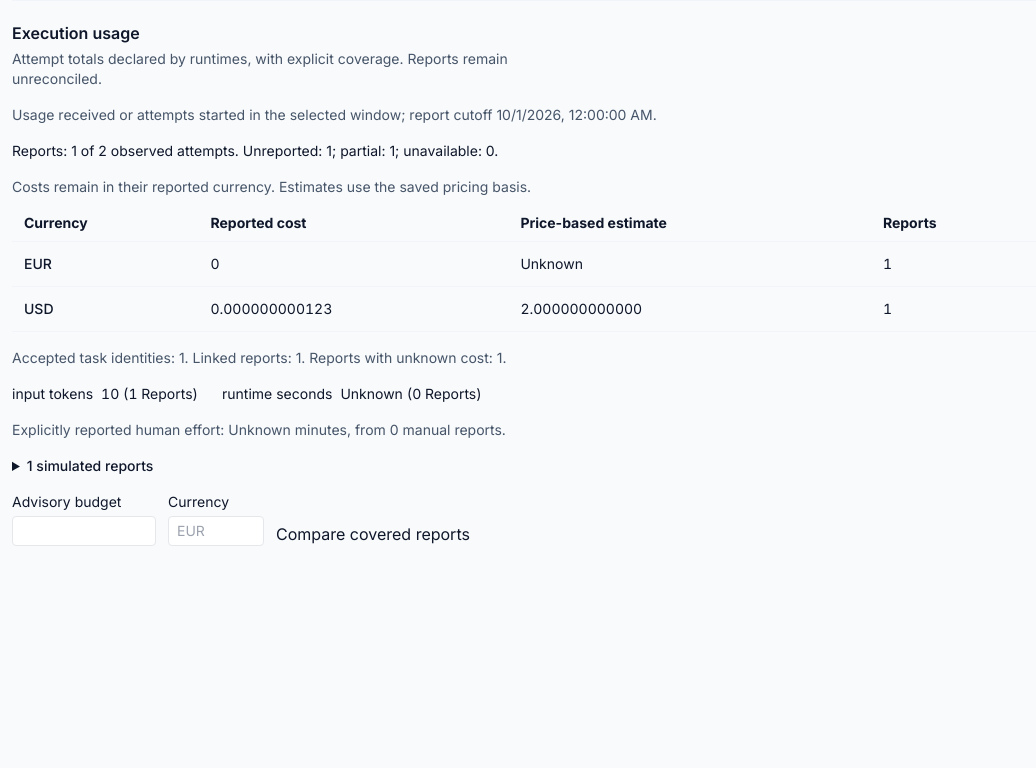
Reported execution usage › keeps an advisory budget editable after a failed read and never supplies a default currency
Check: the text "0.000000000123" is shown, box left=198, top=286, right=508, bottom=332
Check: the field labelled "Currency" is empty, box left=168, top=516, right=264, bottom=546
Step 1. Type "100,25" into the field labelled "Advisory budget" → (84, 531), box left=12, top=516, right=156, bottom=546
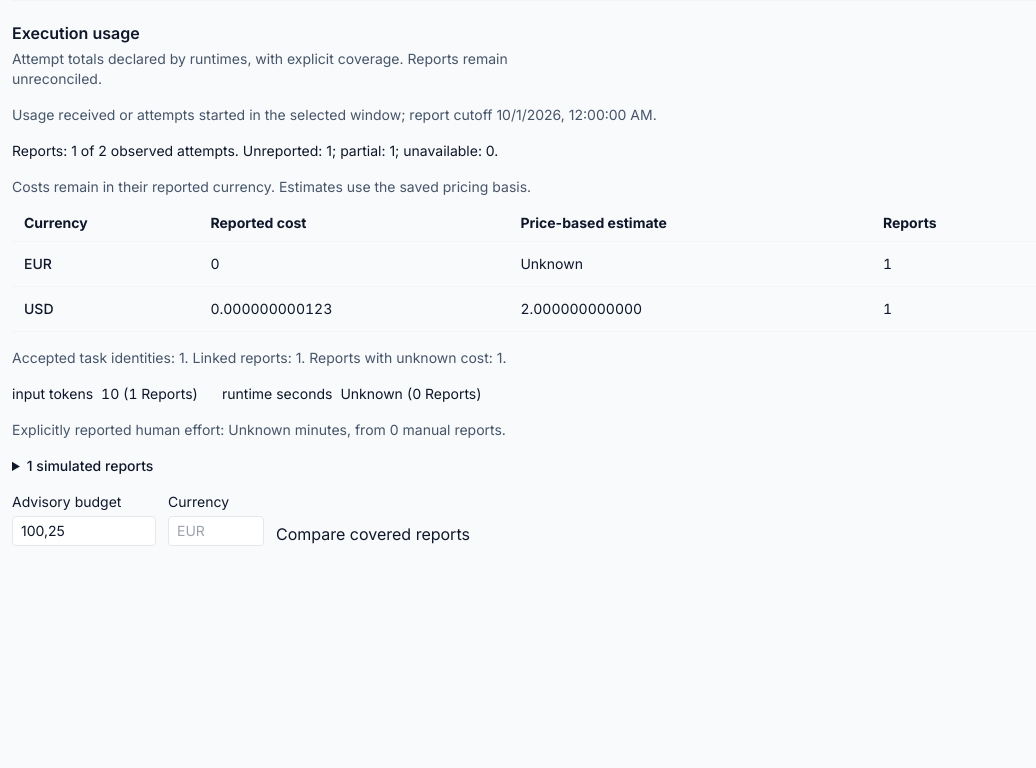
Step 2. Type "eur" into the field labelled "Currency" → (216, 531), box left=168, top=516, right=264, bottom=546
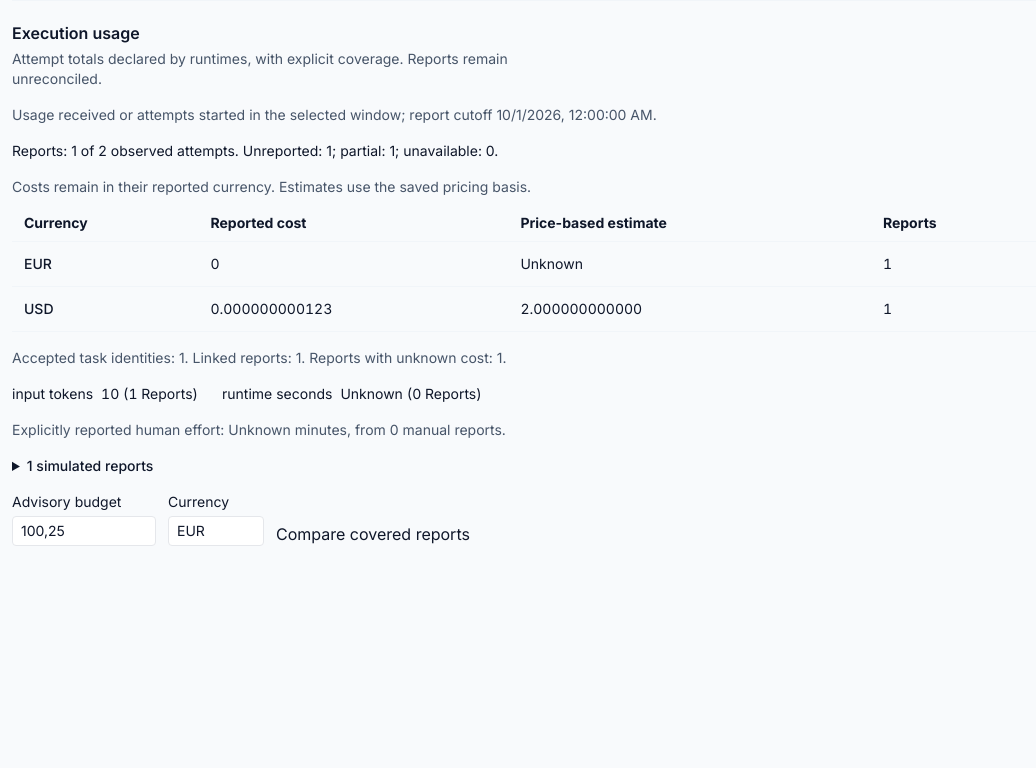
Step 3. Click the button "Compare covered reports" → (373, 534), box left=276, top=522, right=470, bottom=546
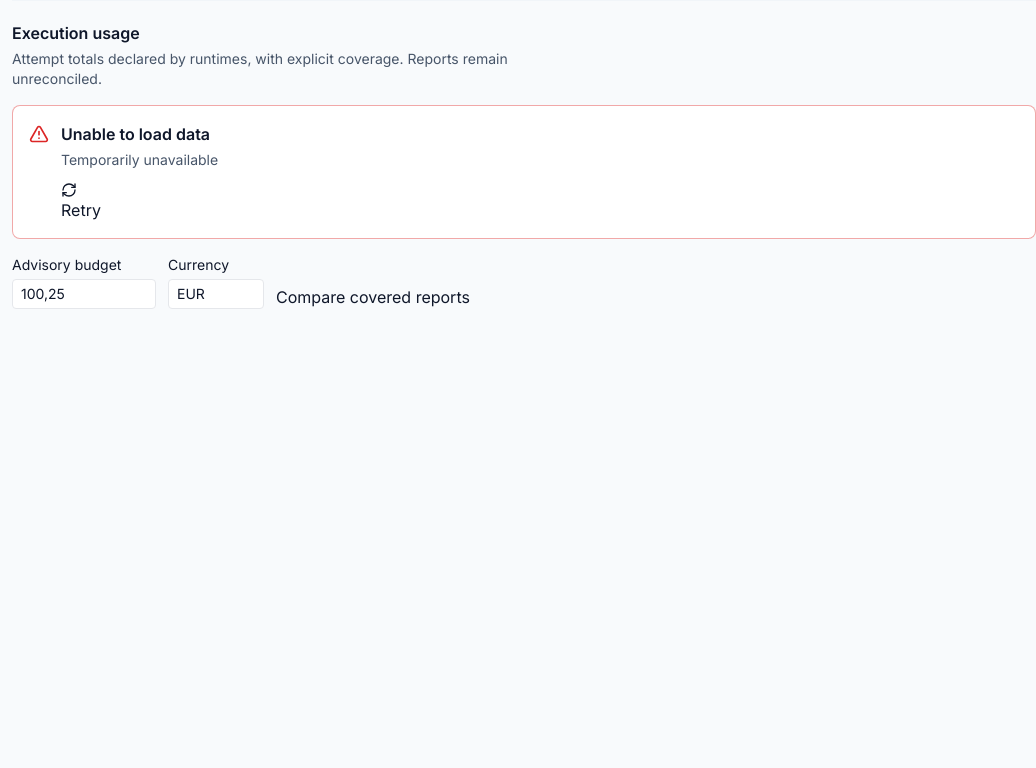
Check: the button "Compare covered reports" is enabled, box left=276, top=285, right=470, bottom=309
Check: the text "Temporarily unavailable" is shown, box left=61, top=151, right=218, bottom=168
